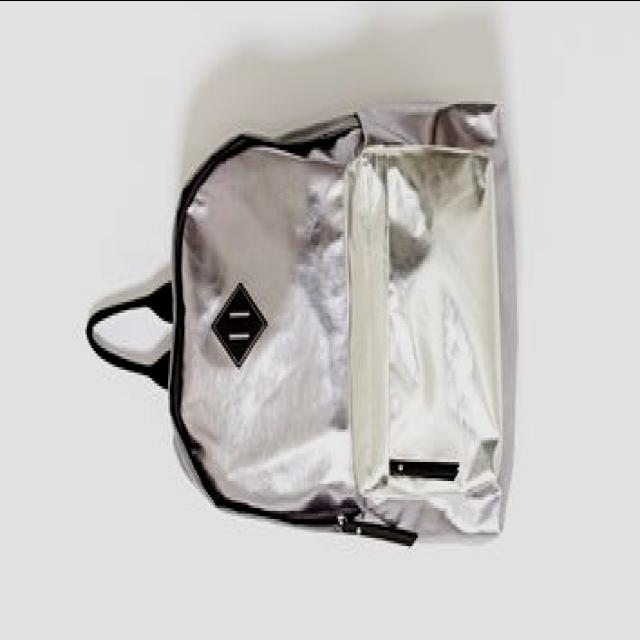backpack: (86, 101, 514, 549)
